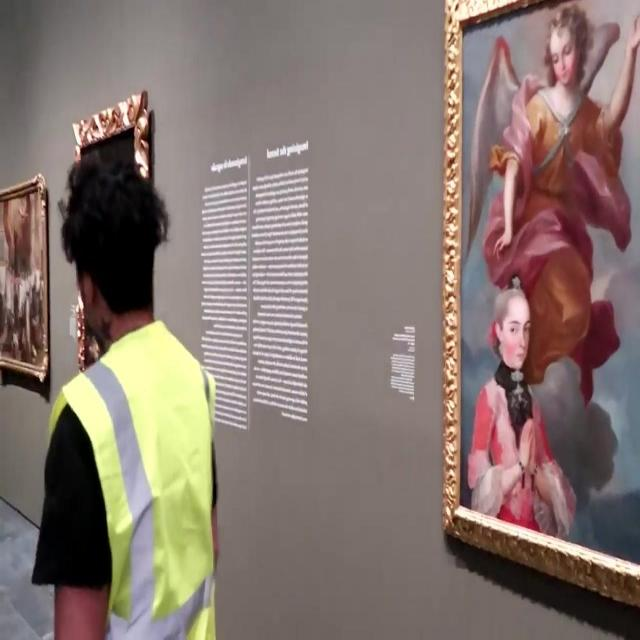Reflective-Jacket: (42, 318, 230, 640)
